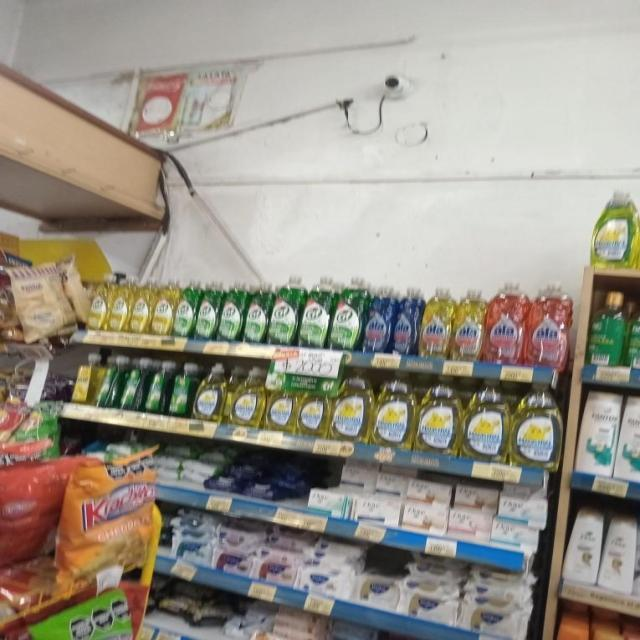ala_conc_amarillo: (452, 286, 484, 362), (422, 285, 452, 359)
ala_conc_azul: (366, 282, 393, 354), (394, 285, 420, 356)
ala_conc_rojo: (528, 281, 570, 367), (486, 280, 526, 364)
cif_conc_bot_amarilla: (153, 276, 174, 336), (133, 275, 152, 334), (113, 273, 132, 332)
cif_conc_botella_verde: (332, 274, 364, 352), (301, 274, 331, 349), (271, 274, 300, 346), (219, 279, 244, 343), (245, 279, 269, 344), (196, 278, 218, 340), (176, 278, 196, 338)
magistral_con_amarillo: (512, 380, 562, 468), (462, 377, 508, 463), (592, 187, 638, 269), (417, 374, 460, 455), (372, 371, 413, 449), (330, 368, 370, 443), (296, 368, 329, 438), (230, 365, 264, 427), (266, 366, 295, 433), (195, 362, 225, 422)
